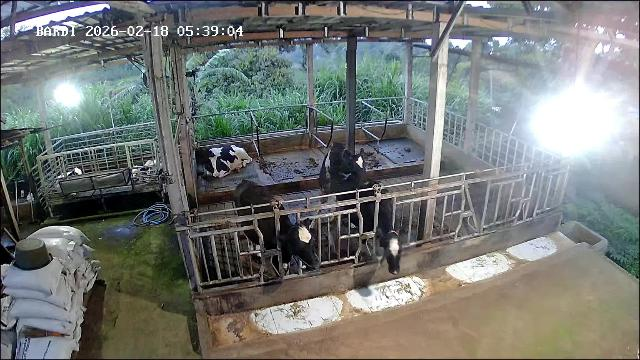mounting: (311, 143, 366, 228)
